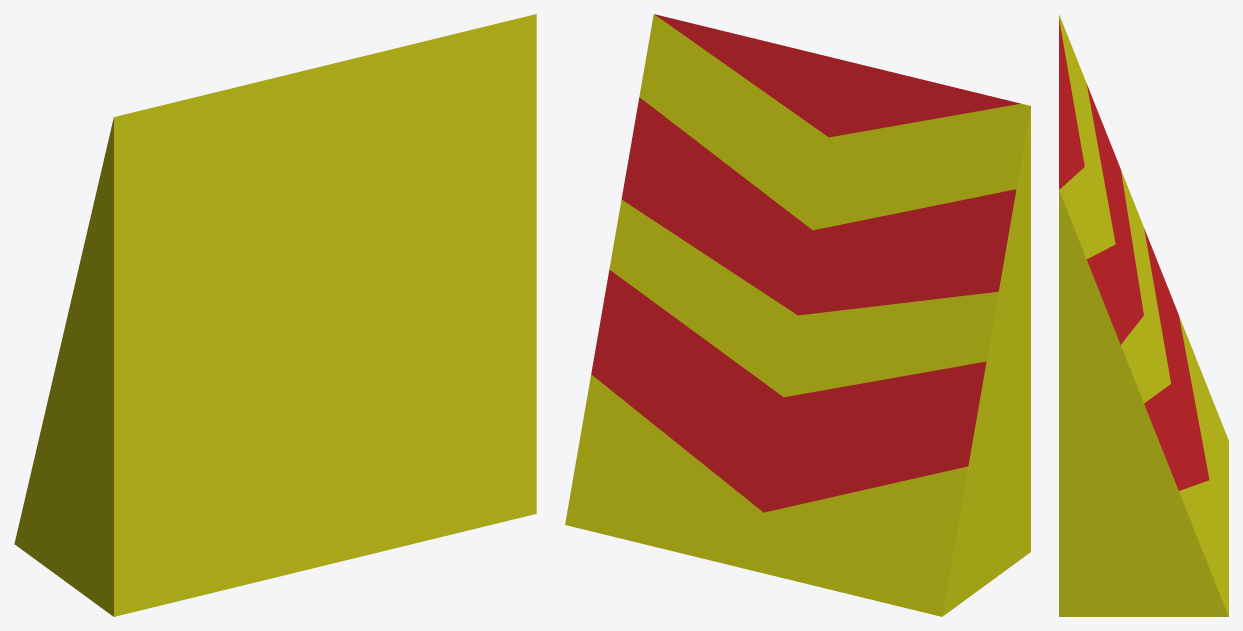
Rendered from Rampa_Modelo.fbx.
3 views of the same model, side by side, from view 1: azimuth 30°, elevation 25°; view 2: azimuth 150°, elevation 25°; view 3: azimuth 270°, elevation 25° (orthographic). The views are drawn at different scales.
Parts seen in each view (by area): view 1: Ramp; view 2: Ramp; view 3: Ramp.
Boxes of the visible parts, x1=… form: Ramp: x1=14, y1=14, x2=536, y2=616; Ramp: x1=565, y1=14, x2=1030, y2=616; Ramp: x1=1059, y1=14, x2=1228, y2=616.
Size of the model in its own units: 491 by 555 by 200.
